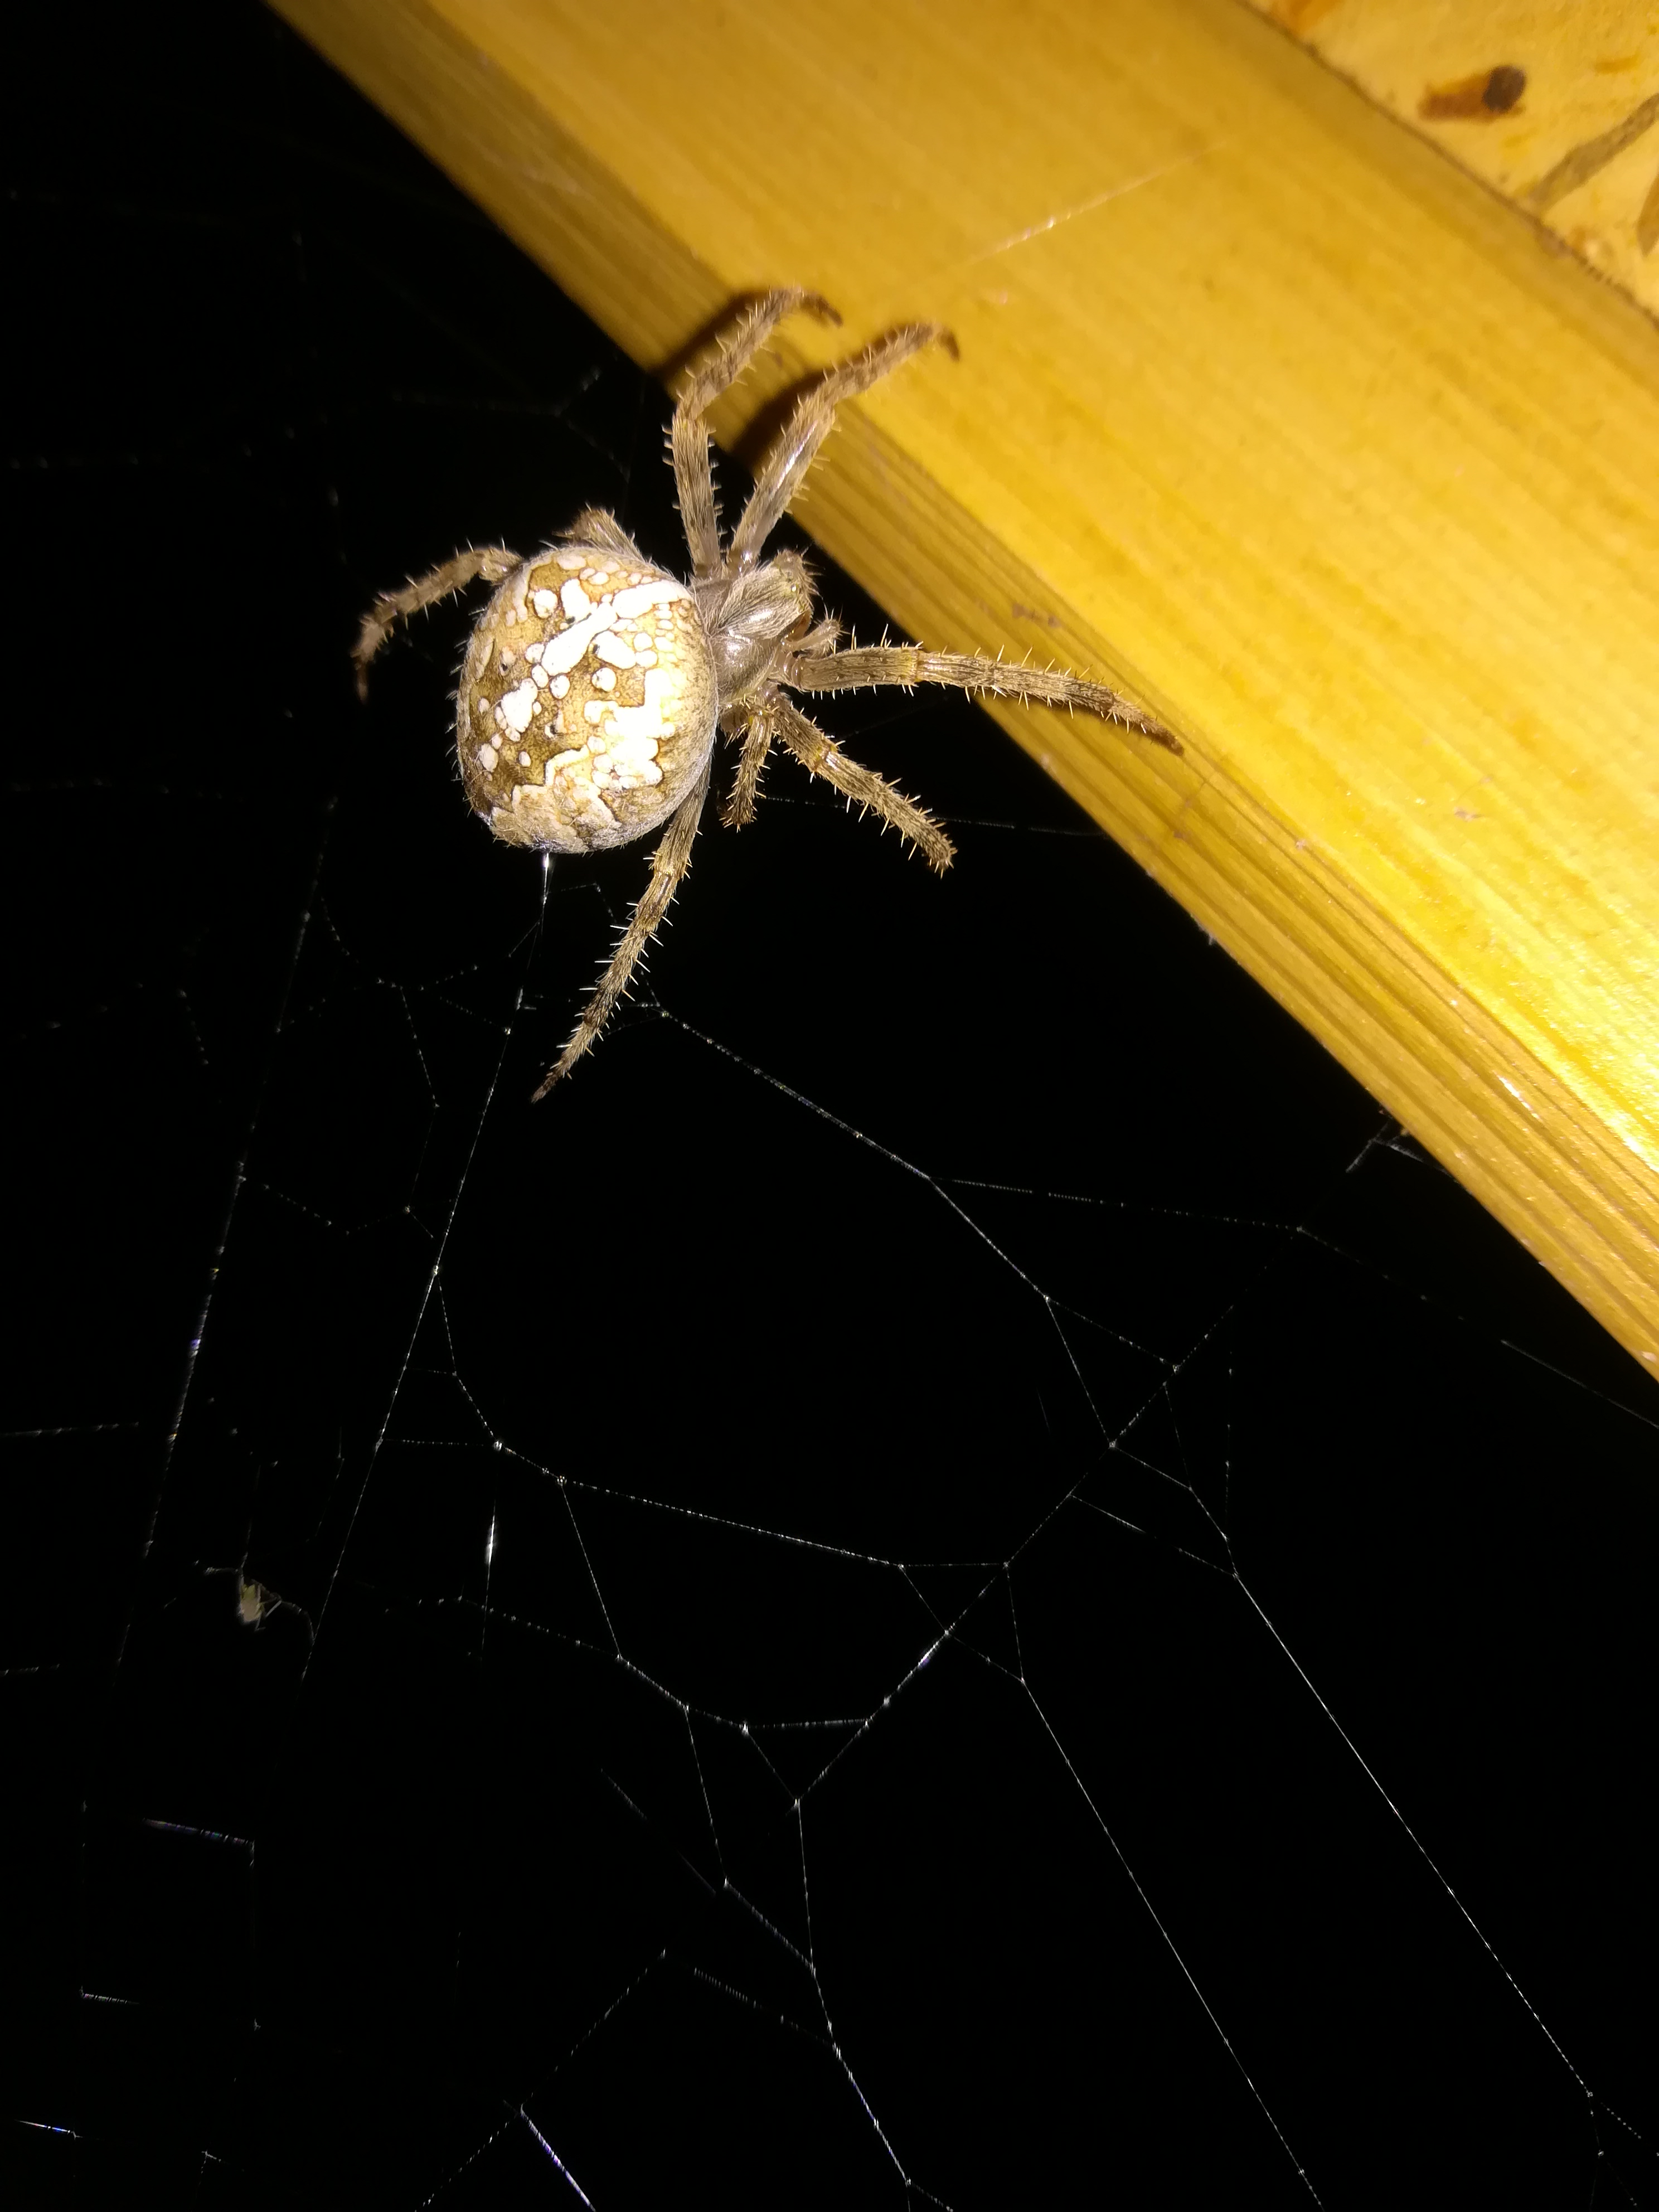spider: (312, 233, 1208, 1170)
